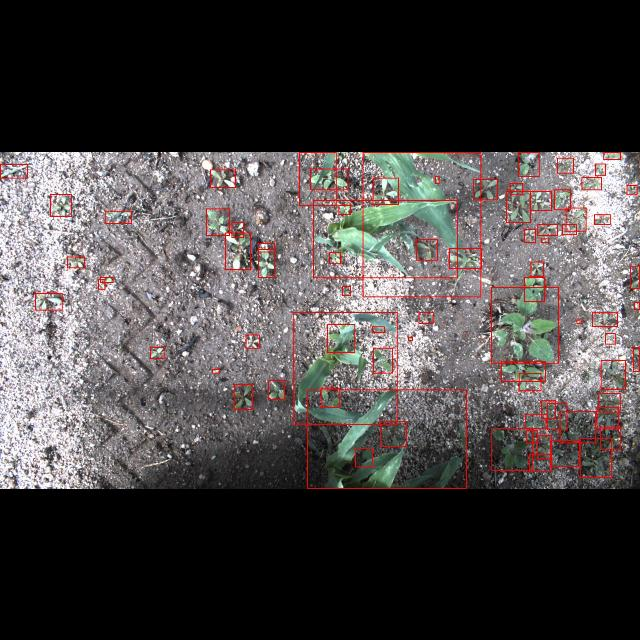crop: (363, 152, 481, 296), (308, 389, 467, 488), (294, 312, 396, 424), (313, 199, 457, 277), (298, 151, 336, 205)
weed: (492, 287, 558, 363), (492, 428, 532, 470), (580, 438, 612, 477), (560, 412, 596, 442), (501, 361, 545, 381), (226, 232, 250, 268), (550, 440, 580, 466), (506, 190, 530, 222), (310, 168, 348, 188), (600, 359, 626, 388), (328, 323, 354, 352), (374, 176, 398, 204), (449, 248, 481, 268), (380, 422, 406, 446), (207, 208, 230, 235), (547, 402, 567, 430), (518, 151, 540, 175), (473, 178, 497, 200), (34, 292, 62, 310), (50, 193, 72, 215), (258, 248, 274, 278), (524, 277, 544, 301), (210, 169, 236, 187), (234, 384, 252, 410), (600, 426, 620, 449), (373, 348, 392, 372), (530, 190, 552, 210), (566, 208, 586, 230), (598, 392, 620, 412), (596, 408, 618, 428), (417, 239, 438, 259), (320, 387, 340, 407), (0, 163, 28, 177), (519, 374, 541, 391), (529, 454, 551, 471), (592, 312, 618, 326), (355, 448, 373, 467), (268, 380, 284, 400), (555, 189, 571, 209), (106, 210, 132, 222), (537, 436, 551, 458), (526, 414, 546, 428), (582, 177, 602, 190), (557, 156, 573, 172), (542, 400, 556, 418), (530, 260, 544, 276), (537, 223, 557, 234), (630, 266, 640, 288), (68, 256, 84, 268), (232, 222, 244, 236), (246, 334, 258, 348), (524, 228, 536, 242), (258, 242, 274, 252), (594, 214, 610, 224), (526, 431, 538, 444), (150, 347, 164, 358), (562, 223, 576, 234), (510, 182, 522, 194), (633, 347, 639, 371), (419, 312, 433, 322), (595, 163, 605, 175), (339, 204, 351, 214), (330, 251, 340, 263), (605, 333, 615, 343), (627, 184, 637, 194), (604, 152, 620, 158), (100, 276, 114, 282), (372, 326, 384, 332), (98, 279, 105, 289), (342, 286, 350, 294), (634, 302, 640, 308), (212, 369, 220, 373), (435, 175, 439, 182), (576, 319, 582, 323), (542, 238, 548, 242), (408, 336, 412, 340)
